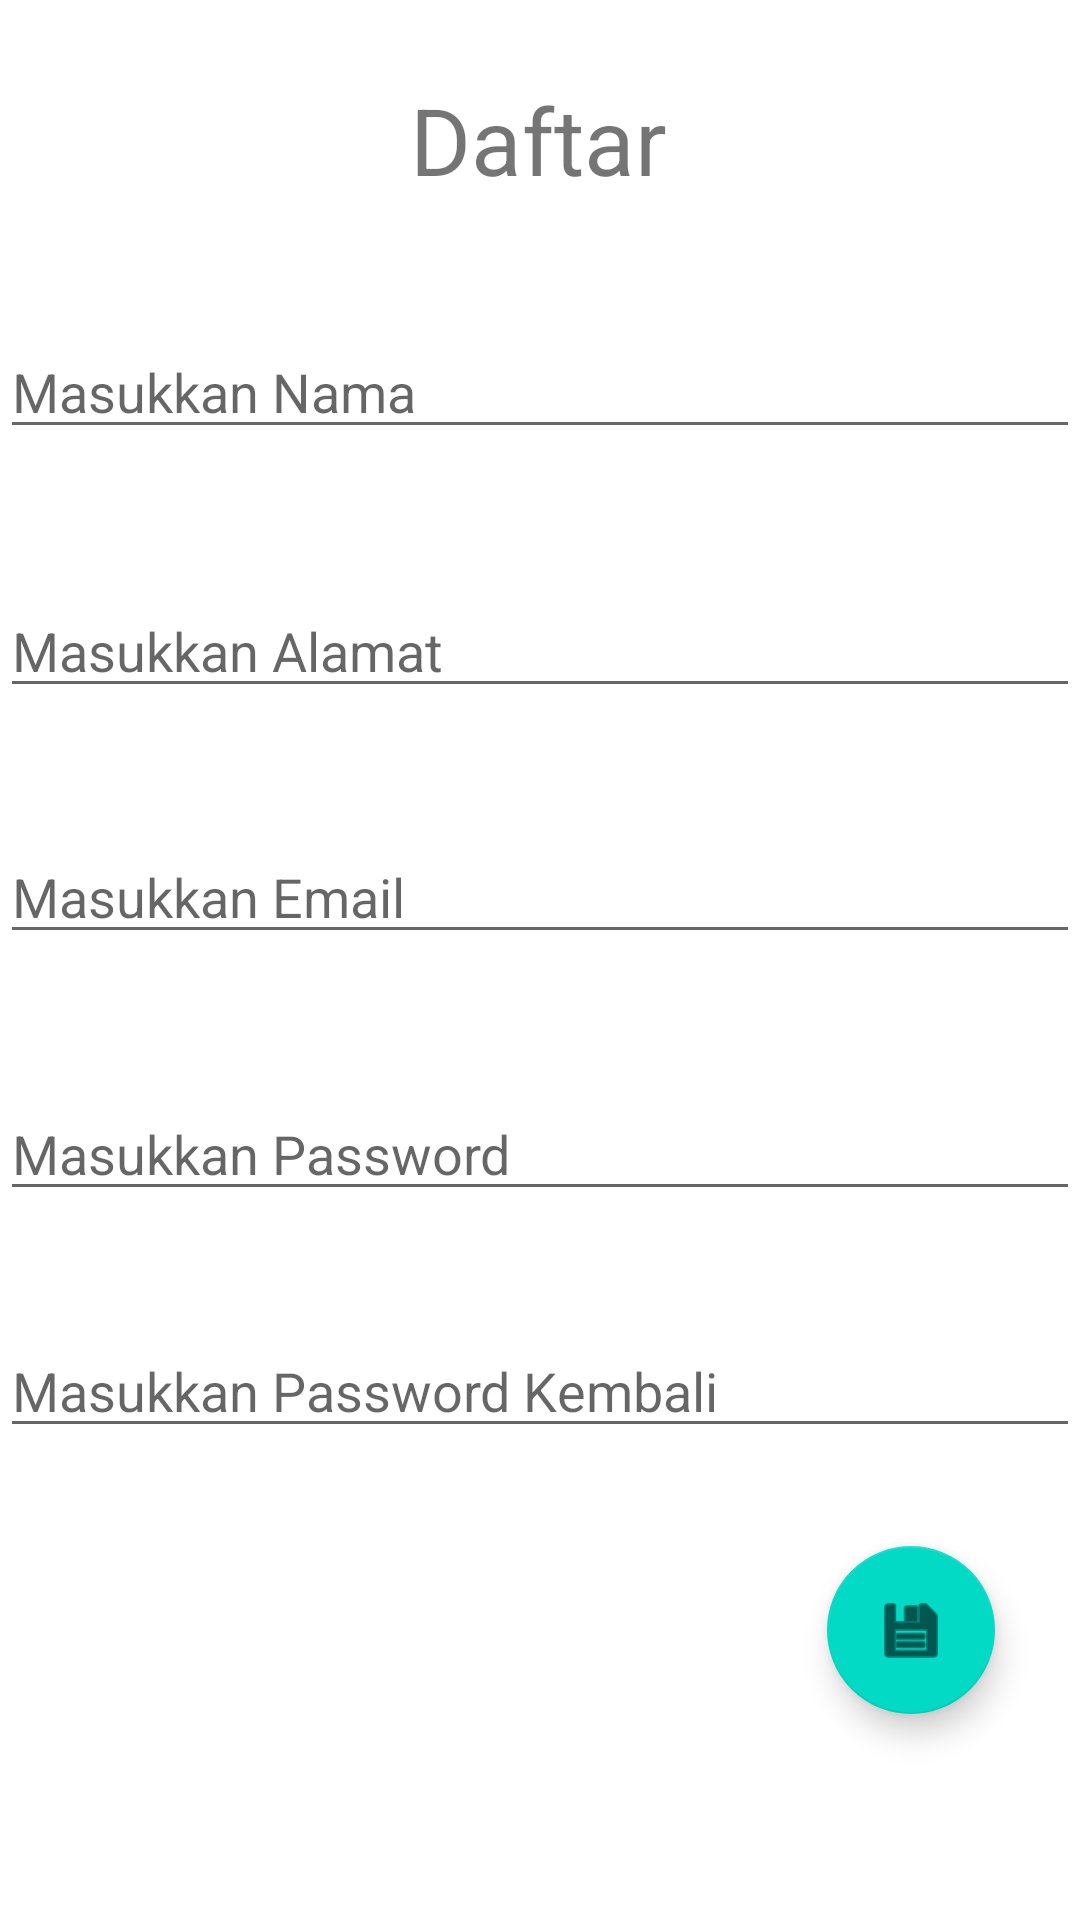

Icons on this 1080*1920 Android screen, each with its box as (x1, y1, x2, y2):
save: (827, 1546, 995, 1714)
